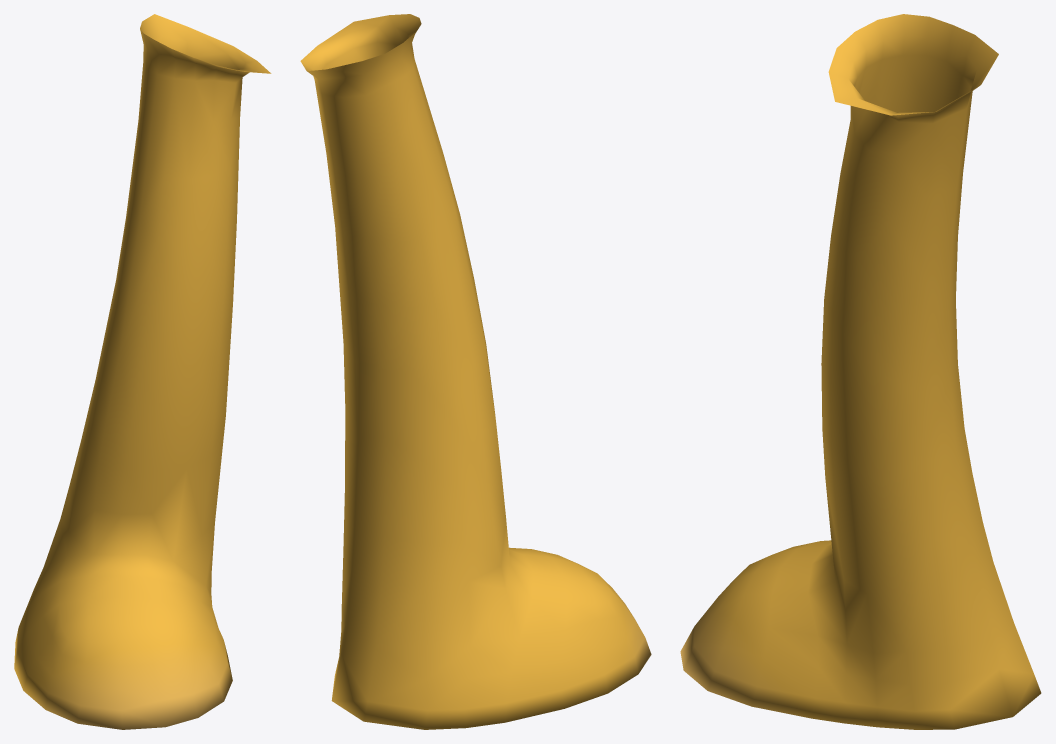
Rendered from Jake_pierna_izq.obj.
The picture shows the model from 3 angles, left to right: view 1: azimuth 30°, elevation 25°; view 2: azimuth 150°, elevation 25°; view 3: azimuth 270°, elevation 25°; orthographic projection. The views are drawn at different scales.
Visible parts, largest first — view 1: Jake_pierna_izq; view 2: Jake_pierna_izq; view 3: Jake_pierna_izq.
Part boxes in pixels (bbox=[...]): Jake_pierna_izq: bbox=[14, 14, 271, 729]; Jake_pierna_izq: bbox=[300, 14, 651, 729]; Jake_pierna_izq: bbox=[680, 14, 1041, 729].
Size of the model in its own units: 0.416 by 0.9316 by 0.4423.
